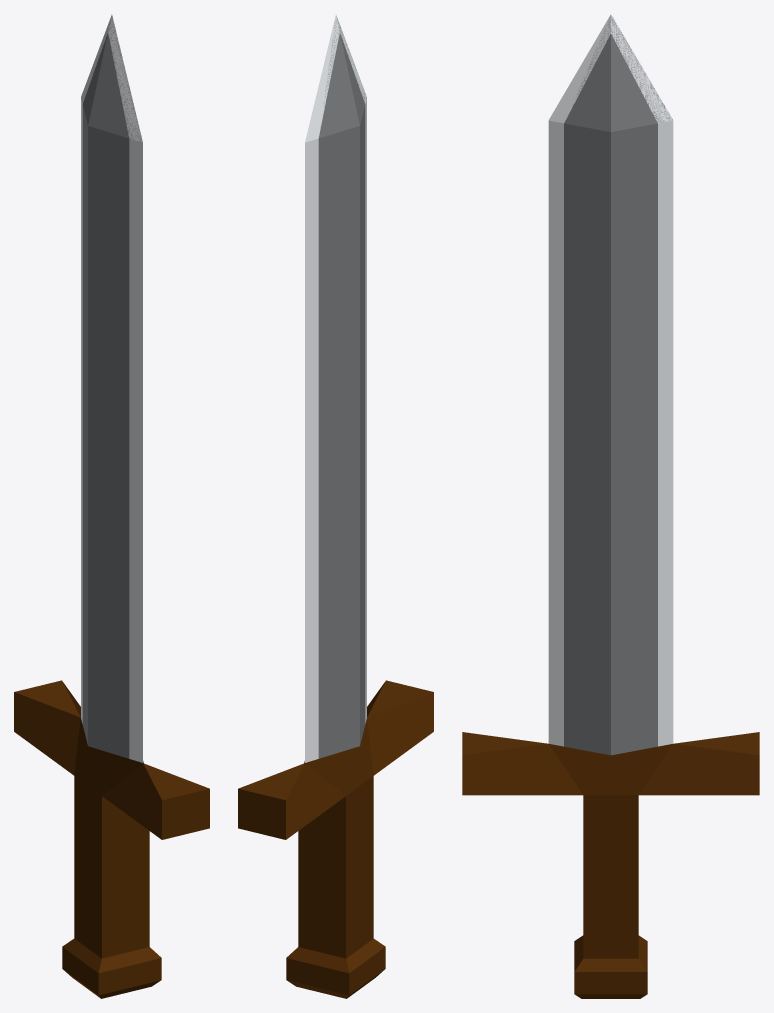
Rendered from sword.fbx.
3 renders of one model, left to right at view 1: azimuth 30°, elevation 25°; view 2: azimuth 150°, elevation 25°; view 3: azimuth 270°, elevation 25°, orthographic.
Visible parts, largest first — view 1: Sword; view 2: Sword; view 3: Sword.
Boxes of the visible parts, x1,y1,x2,y2 form: Sword: (14, 14, 209, 998); Sword: (238, 14, 433, 998); Sword: (462, 14, 759, 998).
Bounding box in the file's own units: 60.61 × 888 × 246.
